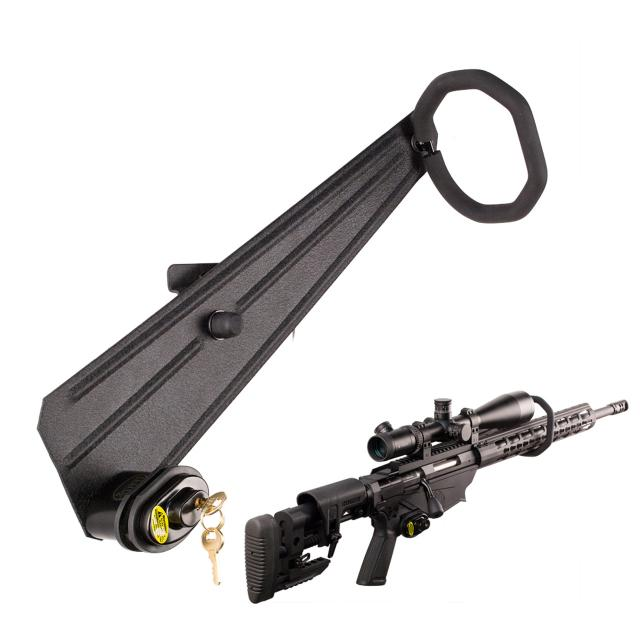Rifle: (243, 393, 630, 604)
